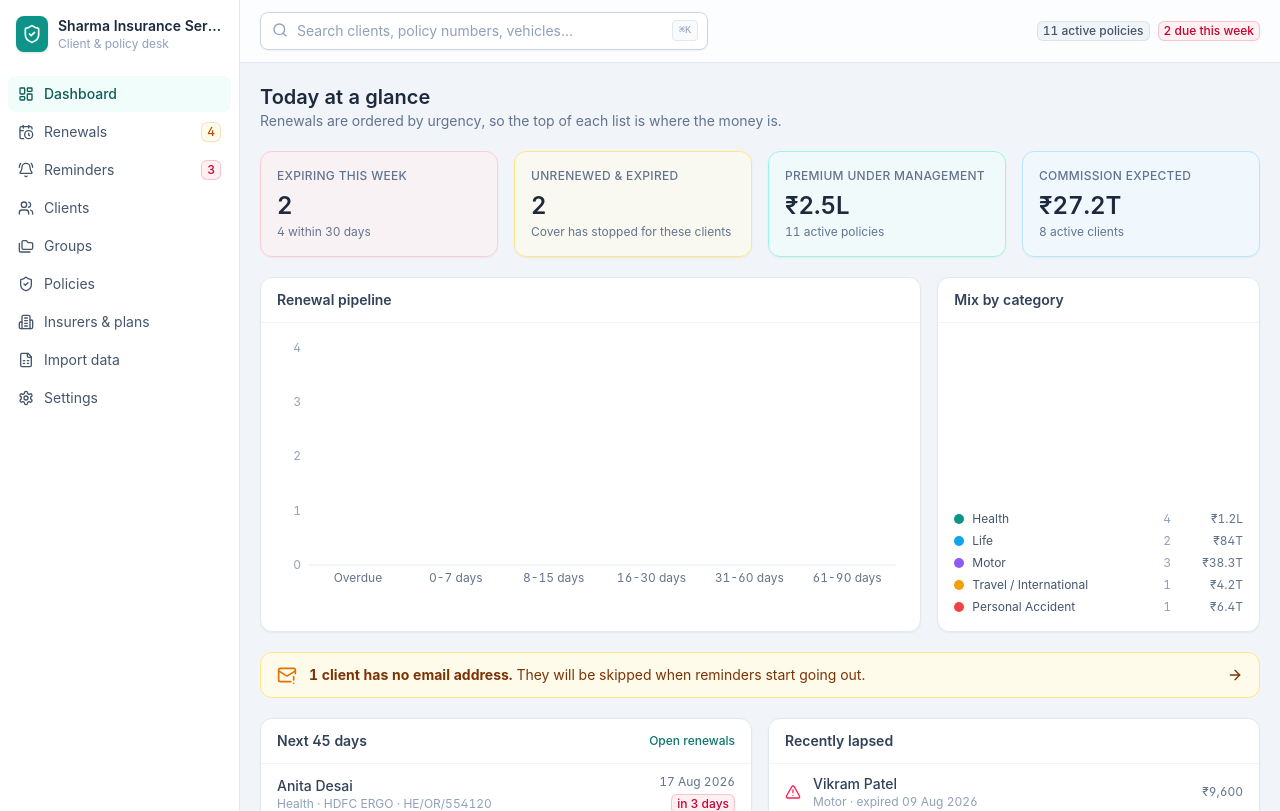
it: routes › moves between screens from the sidebar
Expected: the heading "Today at a glance" is shown, [260,85,430,109]
Click the link "Policies".
click(56, 284)  # box [18,275,95,292]
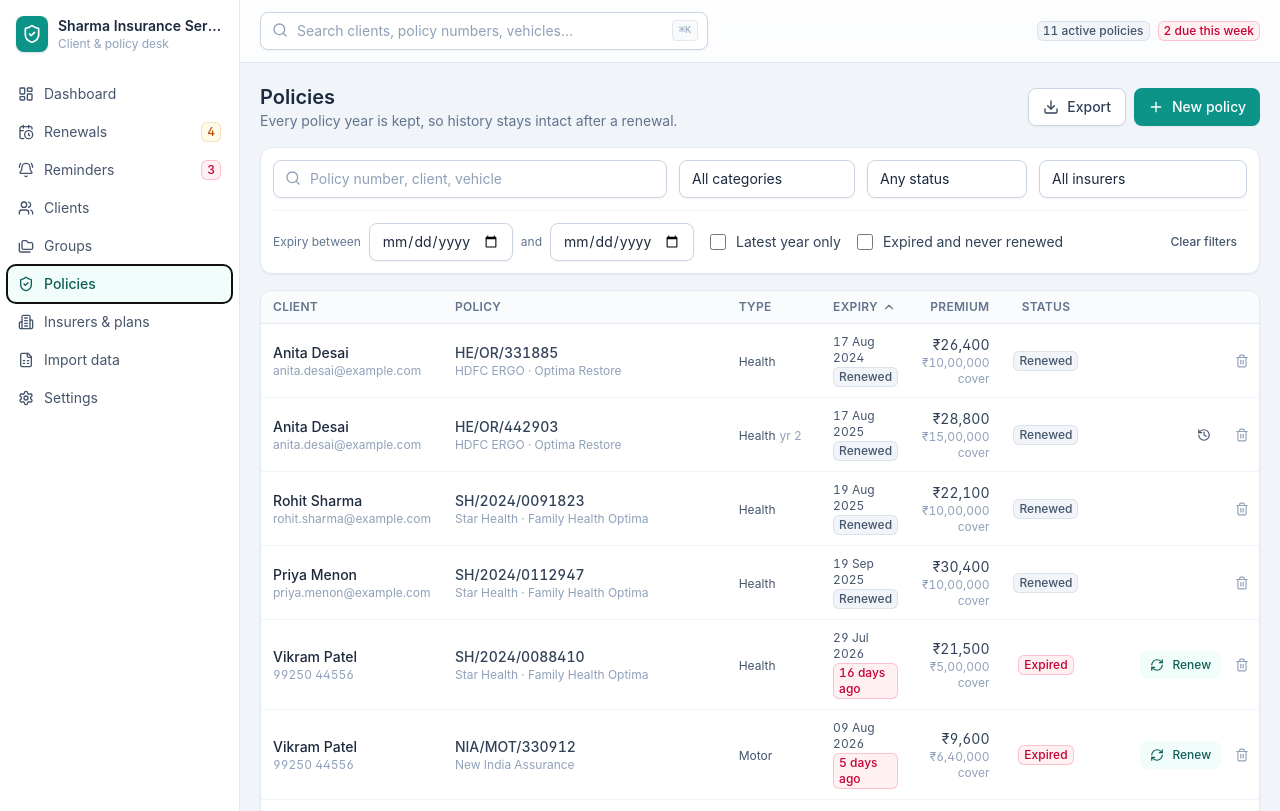
Now the heading "Policies" is shown, box [260,85,335,109]
